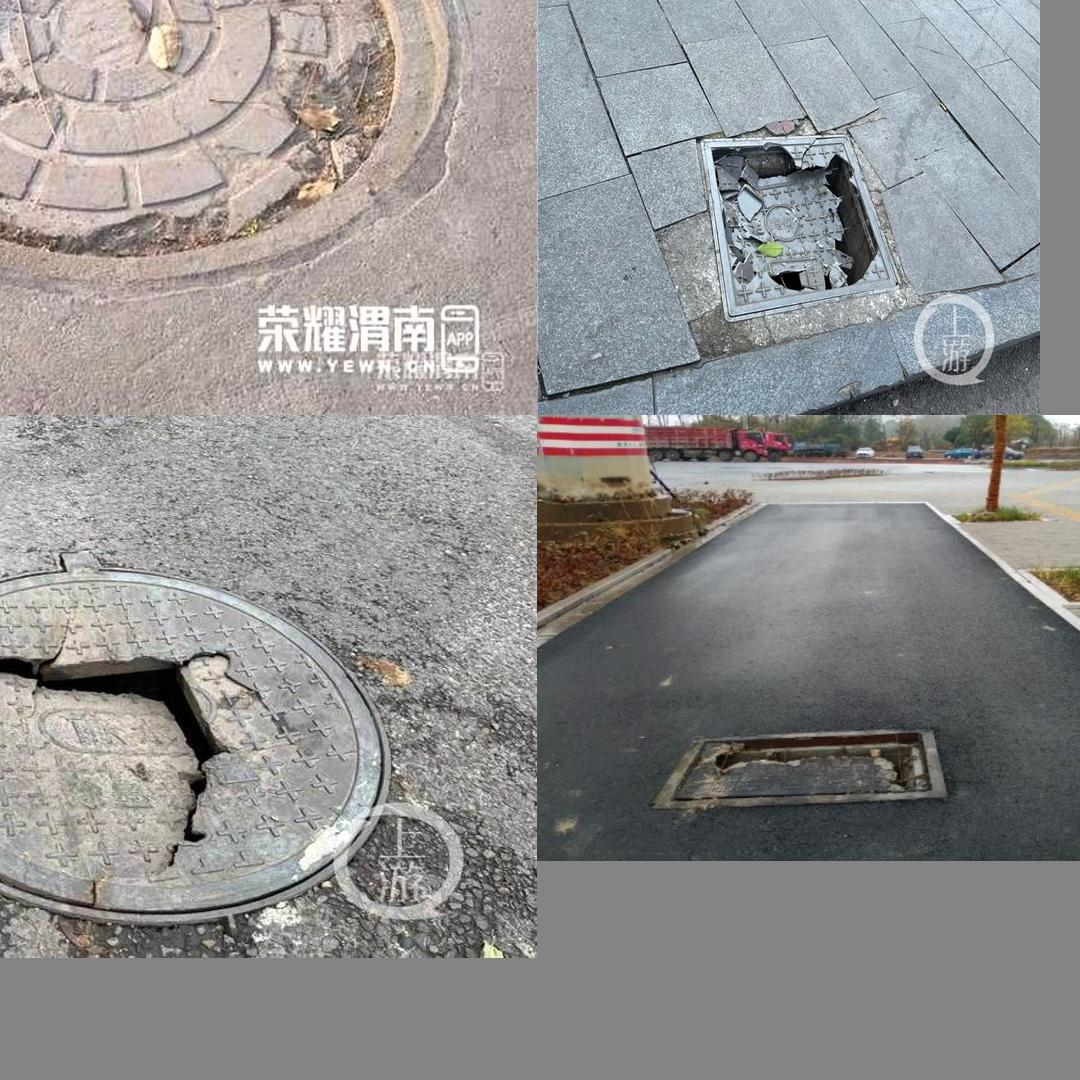broke: (0, 561, 438, 922), (0, 0, 473, 288), (683, 120, 924, 331), (651, 725, 948, 808)
